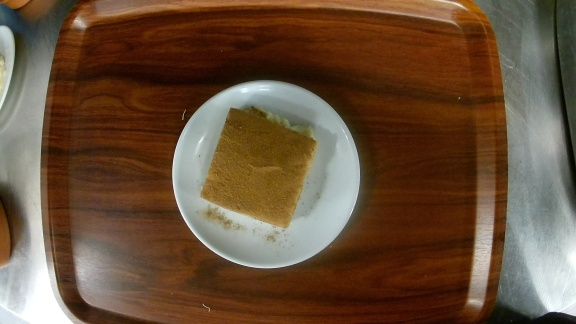tiramisu: (172, 79, 361, 269)
